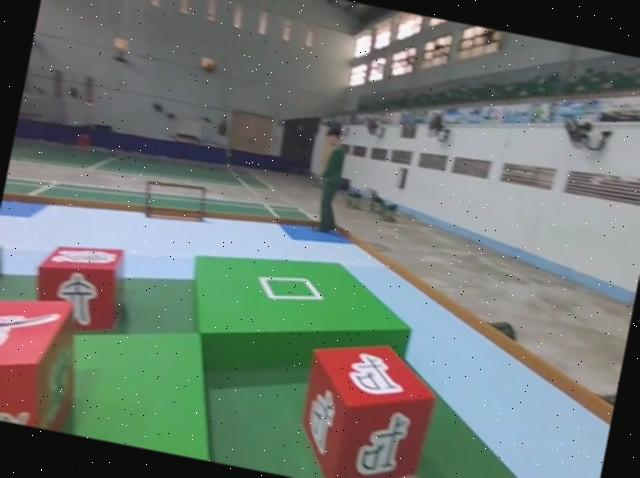R1: (0, 278, 95, 434)
R2 Real: (287, 330, 445, 478)
